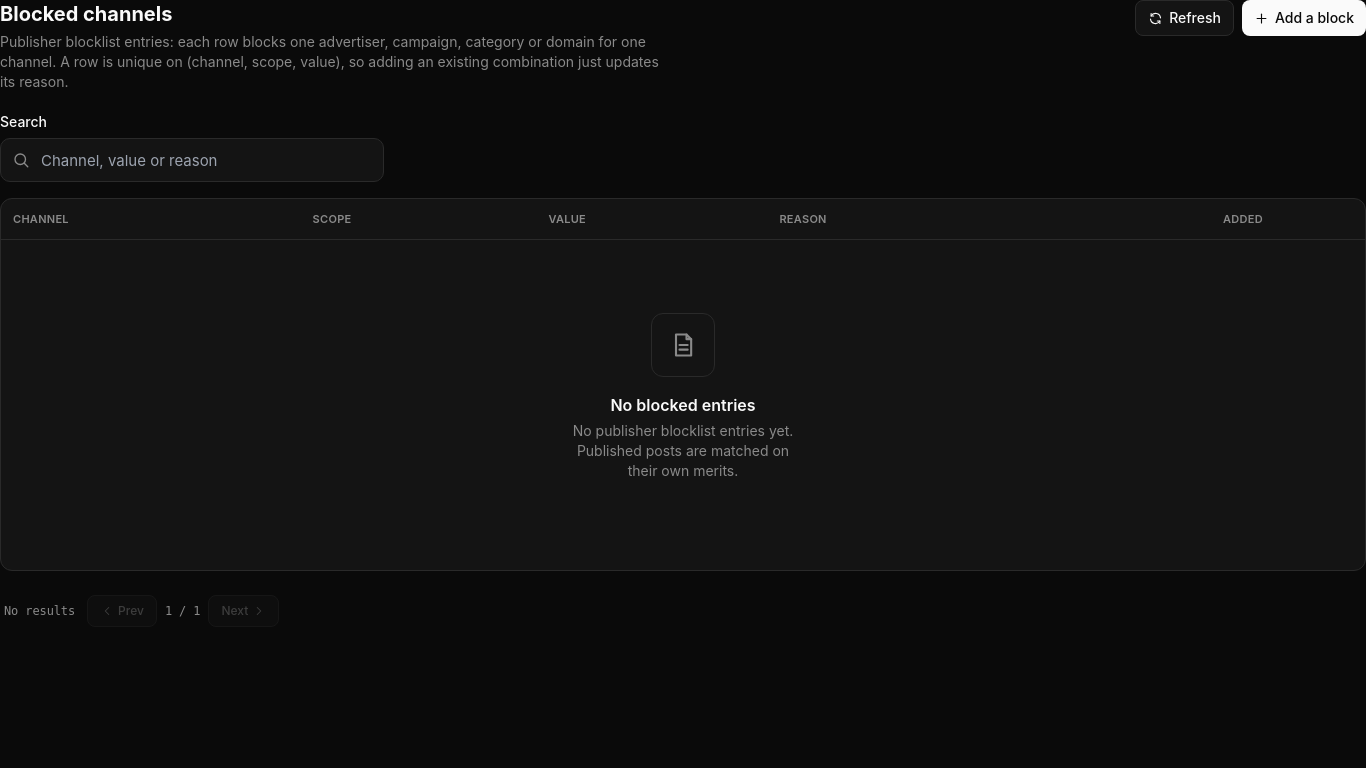
BlockedChannelsPage › requires a reason before it will submit a new block
The width and height of the screenshot is (1366, 768).
Open the "Add a block" dialog from the page header.
Click the button "Add a block" at (1304, 18), box x1=1242 y1=0 x2=1365 y2=36
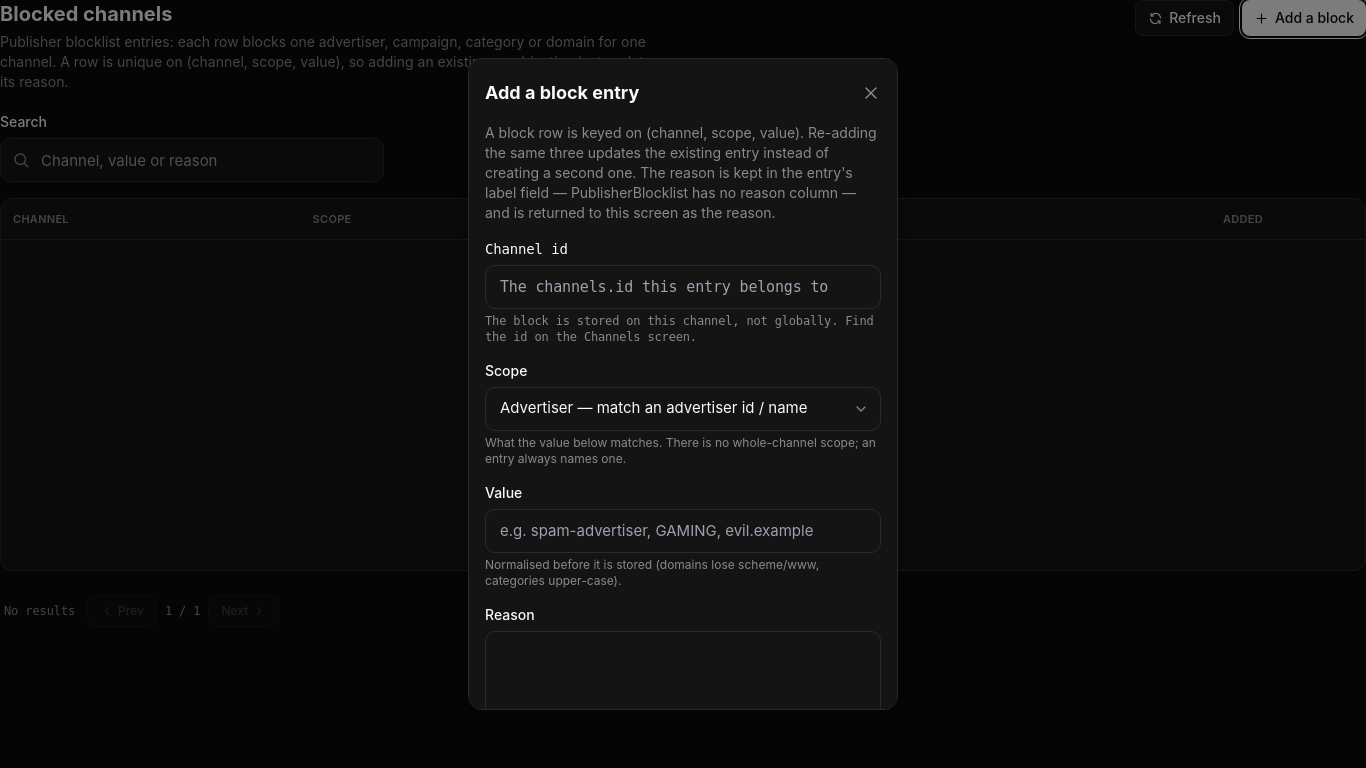
Fill everything except the mandatory reason, then try to submit.
Type "chn-1" into the field labelled "Channel id" at (683, 287), box x1=485 y1=265 x2=881 y2=309
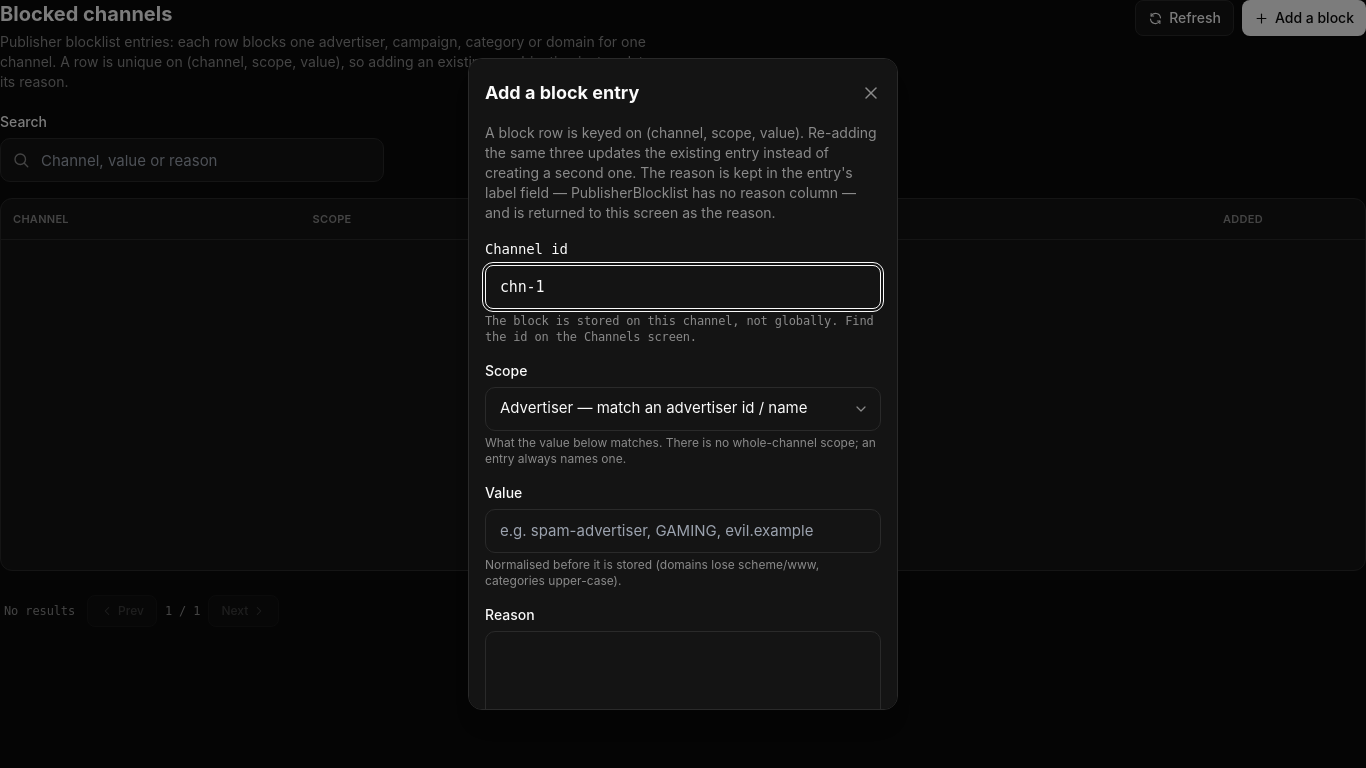
Type "evil.example" into the field labelled "Value" at (683, 531), box x1=485 y1=509 x2=881 y2=553
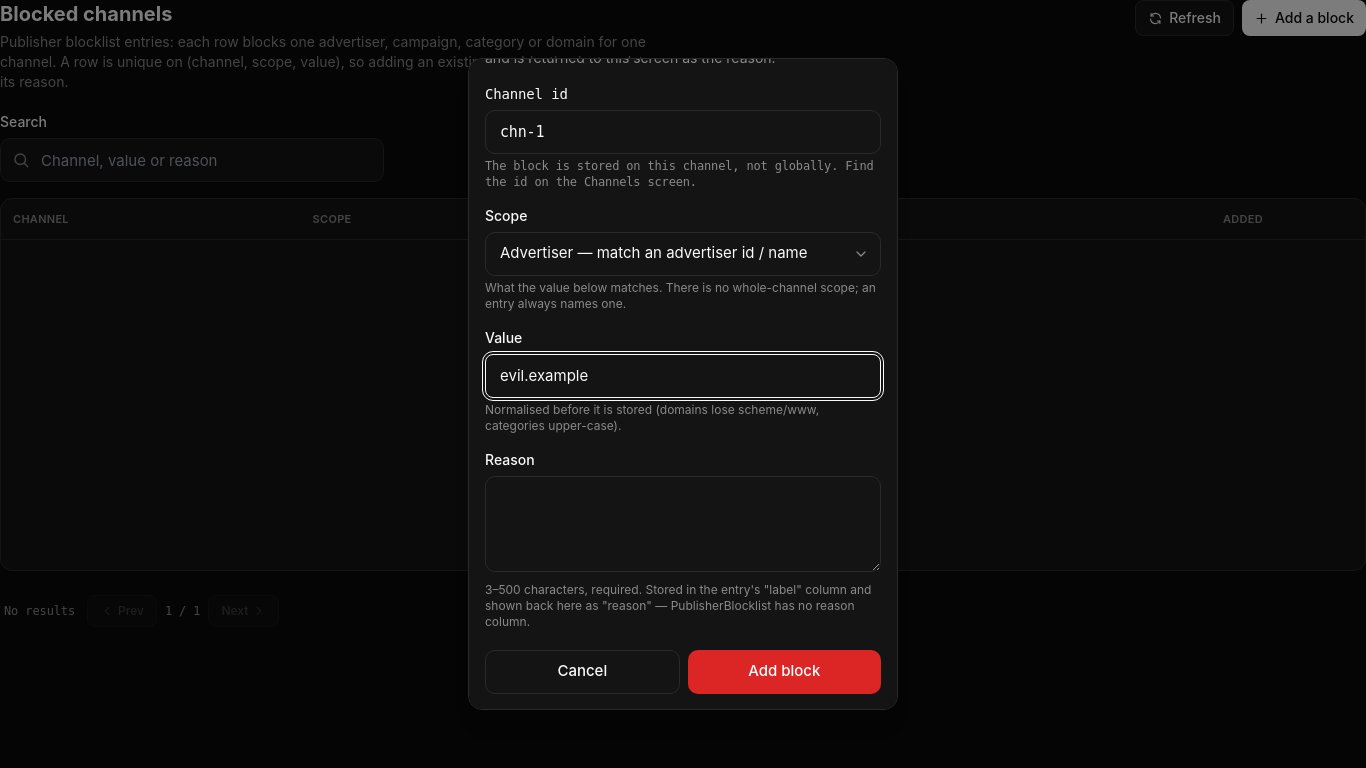
Click the button "Add block" at (784, 672), box x1=688 y1=650 x2=881 y2=694
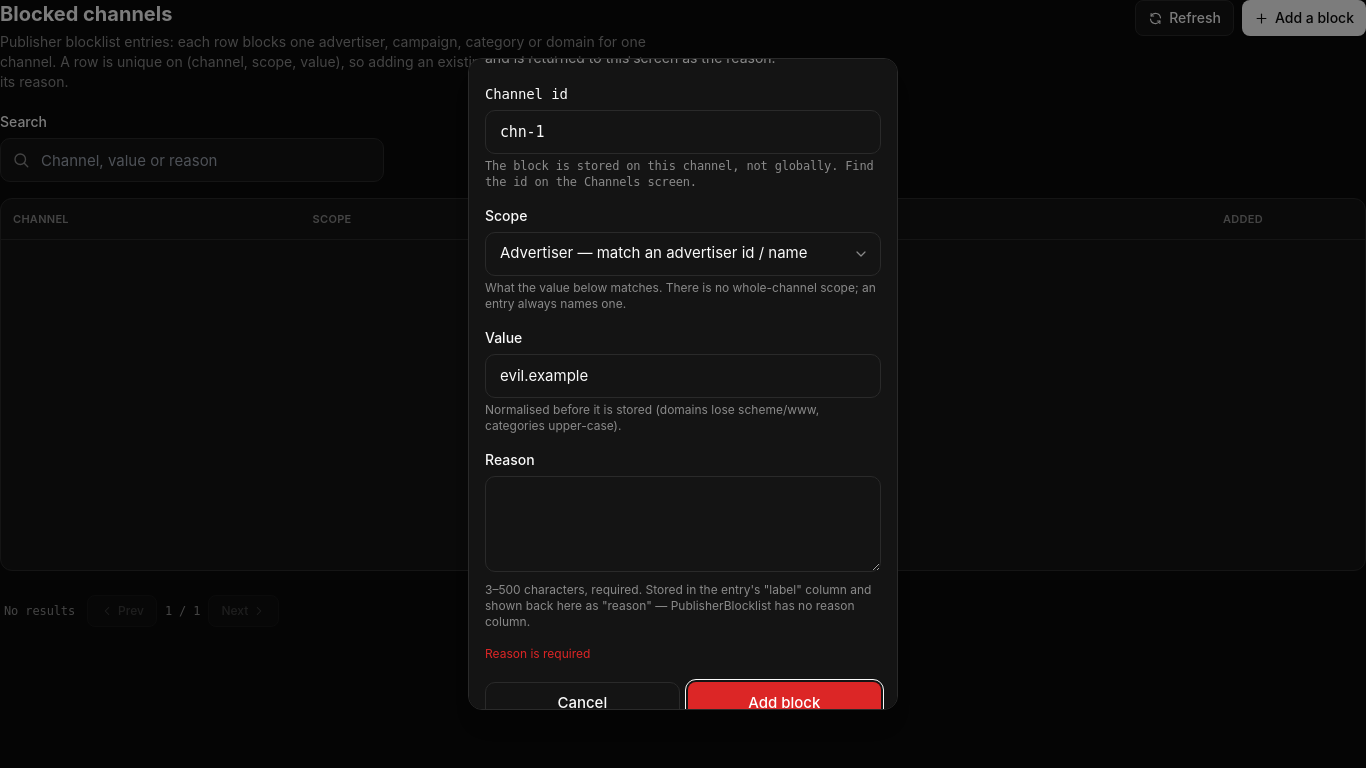
Check: the text "Reason is required" is shown, box x1=485 y1=646 x2=590 y2=661
